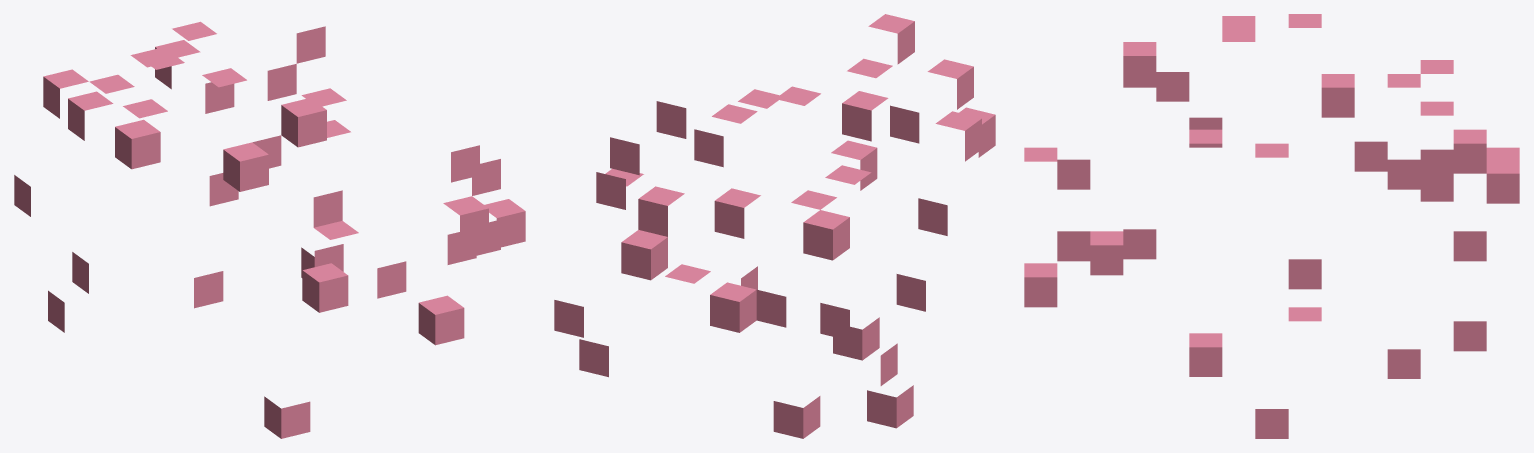
The model's file is tree-cherry-1p25-white-f28fab.gltf.
3 views of the same model, side by side, from view 1: azimuth 30°, elevation 25°; view 2: azimuth 150°, elevation 25°; view 3: azimuth 270°, elevation 25° (orthographic). The views are drawn at different scales.
Visible parts, largest first — view 1: tree-cherry-1p25-white-f28fab; view 2: tree-cherry-1p25-white-f28fab; view 3: tree-cherry-1p25-white-f28fab.
Part boxes in pixels (<box>): tree-cherry-1p25-white-f28fab: <box>14,21,525,438</box>; tree-cherry-1p25-white-f28fab: <box>554,14,995,438</box>; tree-cherry-1p25-white-f28fab: <box>1024,14,1519,438</box>.
Bounding box in the file's own units: 14 × 11 × 15.
